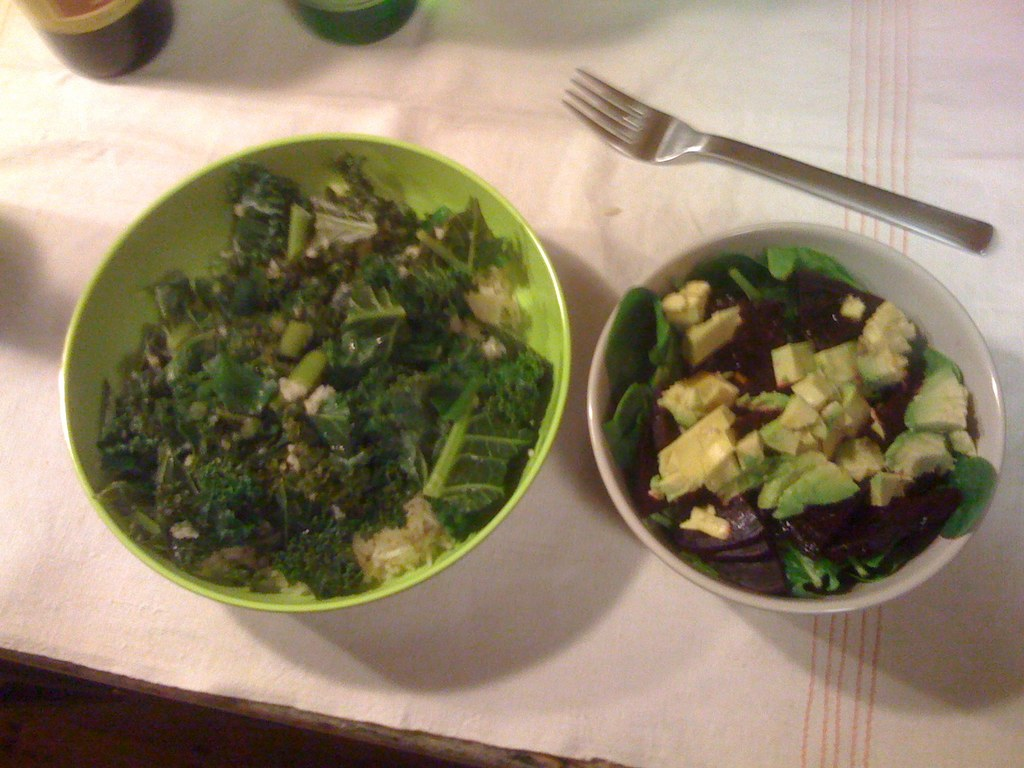fork: (560, 68, 993, 254)
